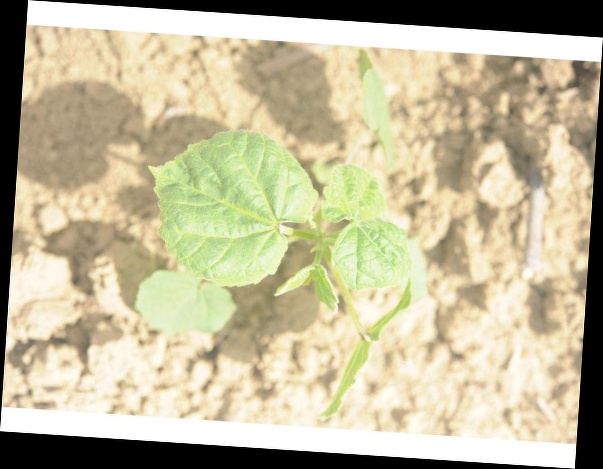velvet: (140, 43, 427, 413)
